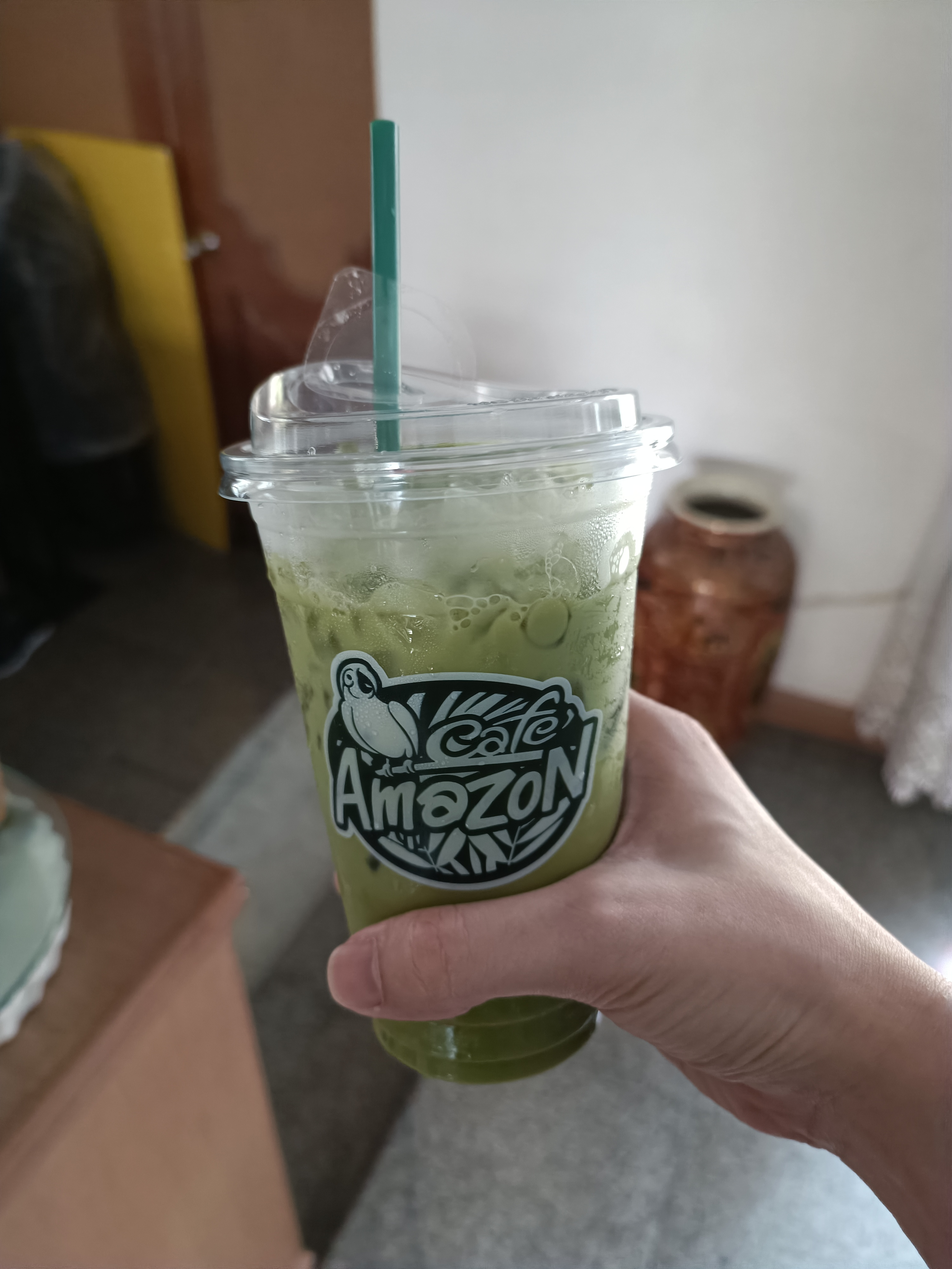plastic: (162, 102, 699, 1090)
